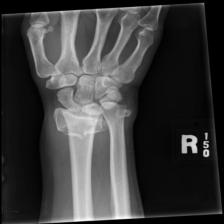impacted-fracture: (6, 4, 189, 224)
